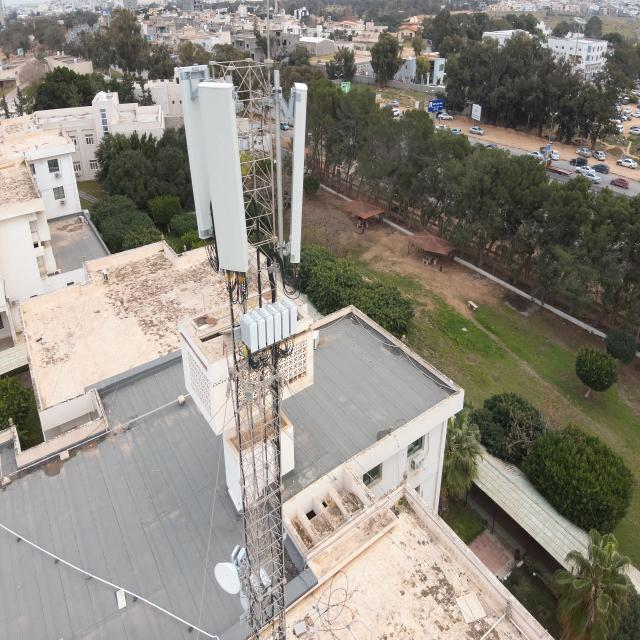antenna: (198, 71, 250, 274), (179, 62, 222, 238), (287, 80, 309, 262)
lighnig-rad: (262, 0, 272, 67)
microware-dish: (213, 543, 250, 594)
power-box: (240, 567, 274, 612)
radio-unit: (242, 296, 300, 355)
